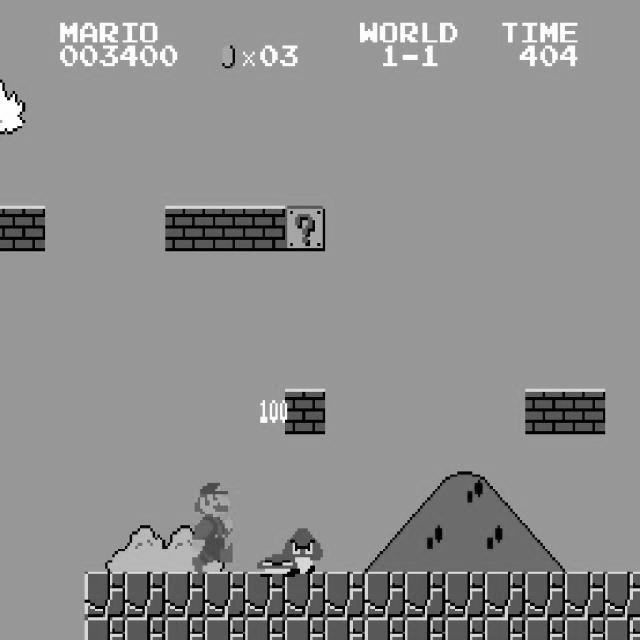0- big_mario: (190, 480, 232, 574)
1- brick_block: (284, 388, 326, 434), (524, 388, 566, 434), (564, 388, 606, 434), (164, 206, 206, 251), (204, 206, 246, 251), (244, 206, 286, 251), (5, 206, 46, 251), (0, 206, 5, 251)
13- mystery_block: (284, 206, 326, 251)
17- undestructible_block: (84, 572, 126, 618), (124, 572, 166, 618), (164, 572, 206, 618), (204, 572, 246, 618), (244, 572, 286, 618), (284, 572, 326, 618), (324, 572, 366, 618), (364, 572, 406, 618), (404, 572, 446, 618), (444, 572, 486, 618), (484, 572, 526, 618), (524, 572, 566, 618), (564, 572, 606, 618), (605, 572, 640, 618), (84, 617, 126, 640), (124, 617, 166, 640), (164, 617, 206, 640), (204, 617, 246, 640), (244, 617, 286, 640), (284, 617, 326, 640), (324, 617, 366, 640), (364, 617, 406, 640), (404, 617, 446, 640), (444, 617, 486, 640), (484, 617, 526, 640), (524, 617, 566, 640), (564, 617, 606, 640), (605, 617, 640, 640)
8- goomba: (280, 526, 323, 574)
